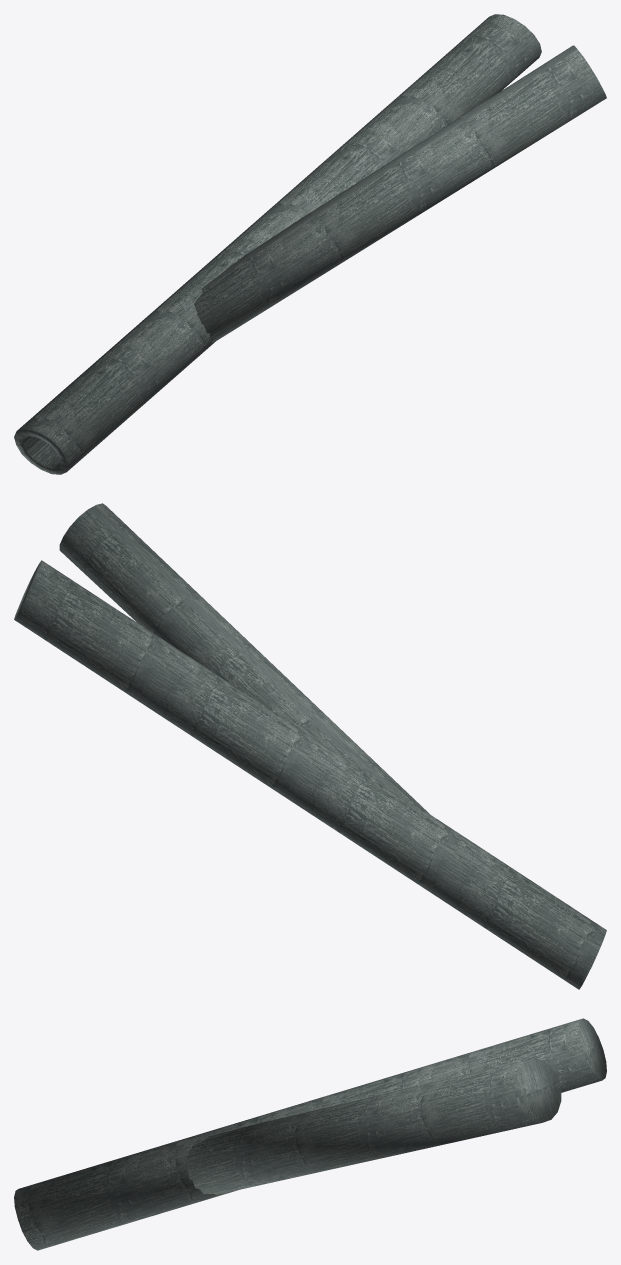
The model's file is Room_G_bellows_pipes.gltf.
3 renders of one model, top to bottom at view 1: azimuth 30°, elevation 25°; view 2: azimuth 150°, elevation 25°; view 3: azimuth 330°, elevation 25°, orthographic. The views are drawn at different scales.
Visible parts, largest first — view 1: Room_G_bellows_pipes_Cylinder.011; view 2: Room_G_bellows_pipes_Cylinder.011; view 3: Room_G_bellows_pipes_Cylinder.011.
Part boxes in pixels (bbox=[...]): Room_G_bellows_pipes_Cylinder.011: bbox=[14, 14, 606, 474]; Room_G_bellows_pipes_Cylinder.011: bbox=[14, 503, 606, 989]; Room_G_bellows_pipes_Cylinder.011: bbox=[14, 1018, 606, 1250].
Size of the model in its own units: 0.2847 by 0.1604 by 0.0861.
Materials: 1 (1 with a texture image).
